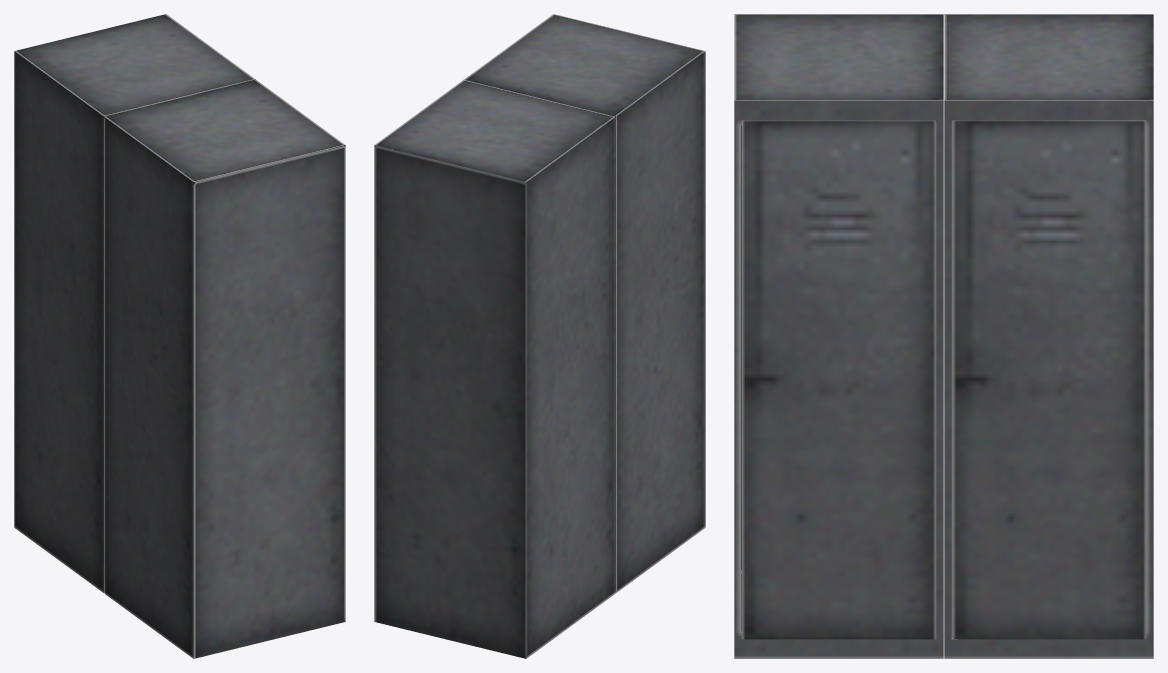
File: double lockers.fbx
3 views of the same model, side by side, from view 1: azimuth 30°, elevation 25°; view 2: azimuth 150°, elevation 25°; view 3: azimuth 270°, elevation 25° (orthographic). The views are drawn at different scales.
Visible parts, largest first — view 1: Double Lockers; view 2: Double Lockers; view 3: Lockers Door, Lockers Door.001, Double Lockers.
Boxes of the visible parts, x1=… form: Double Lockers: x1=14, y1=14, x2=345, y2=658; Double Lockers: x1=374, y1=14, x2=705, y2=658; Lockers Door: x1=741, y1=120, x2=936, y2=639; Lockers Door.001: x1=951, y1=120, x2=1146, y2=639; Double Lockers: x1=734, y1=14, x2=1153, y2=658.
Bounding box in the file's own units: 100 × 300 × 204.
